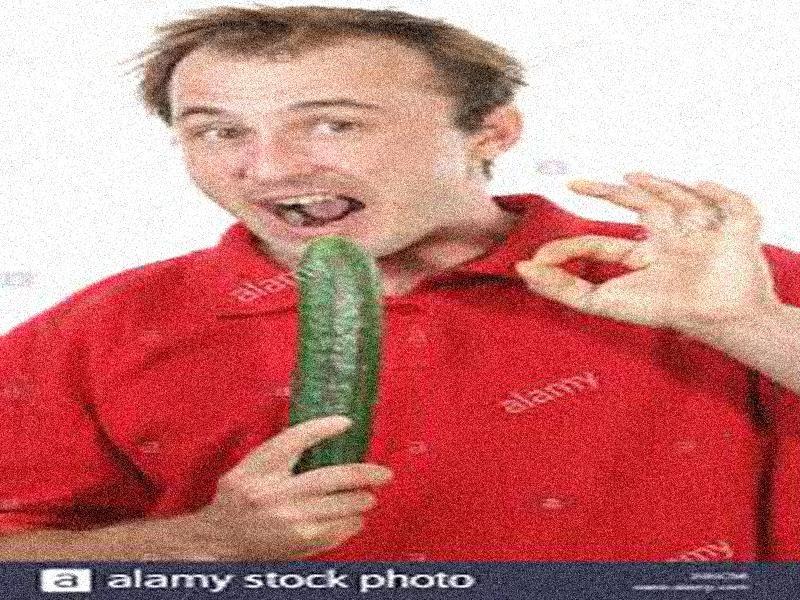Cucumber: (298, 238, 371, 469)
